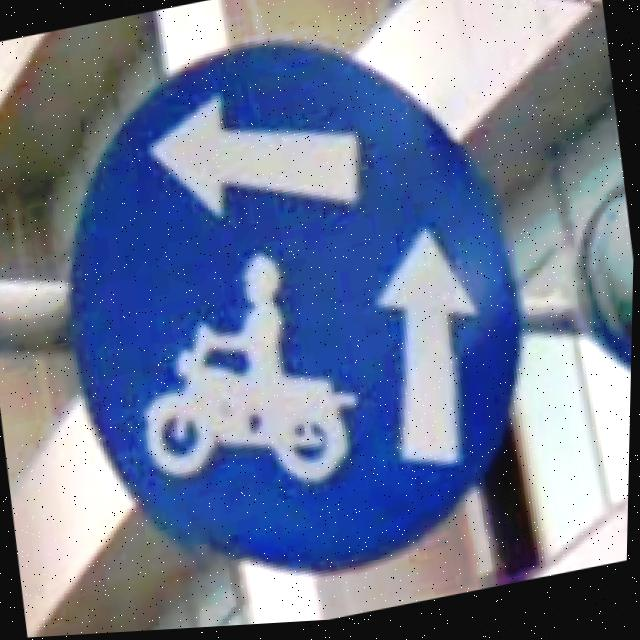twostageturn: (68, 43, 525, 576)
